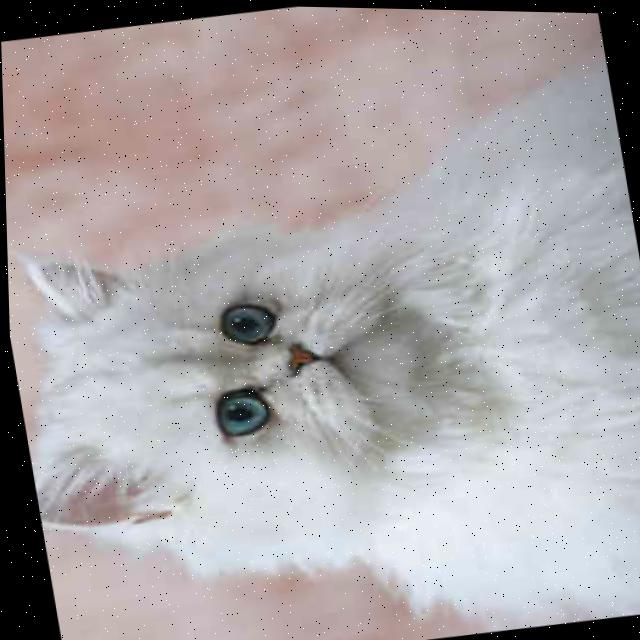Persian: (1, 37, 640, 640)
